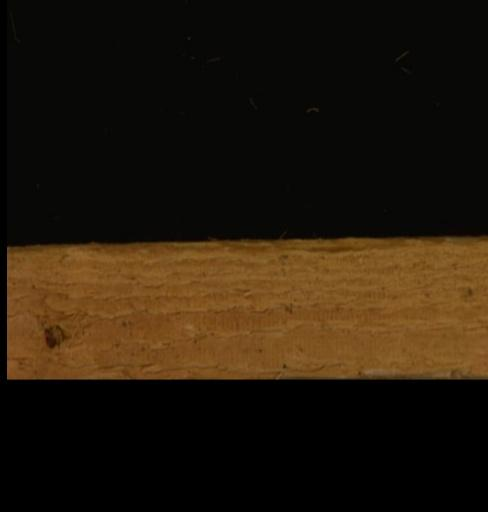dry_knot: (40, 321, 66, 348)
